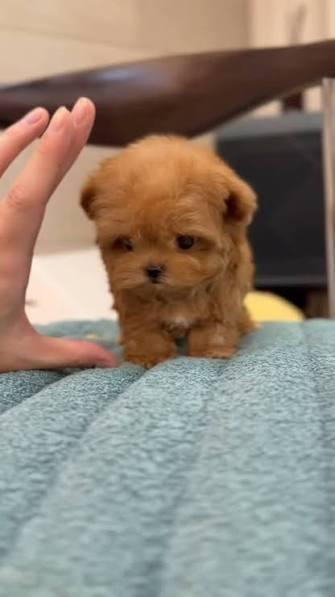puppy-dog: (79, 133, 263, 367)
